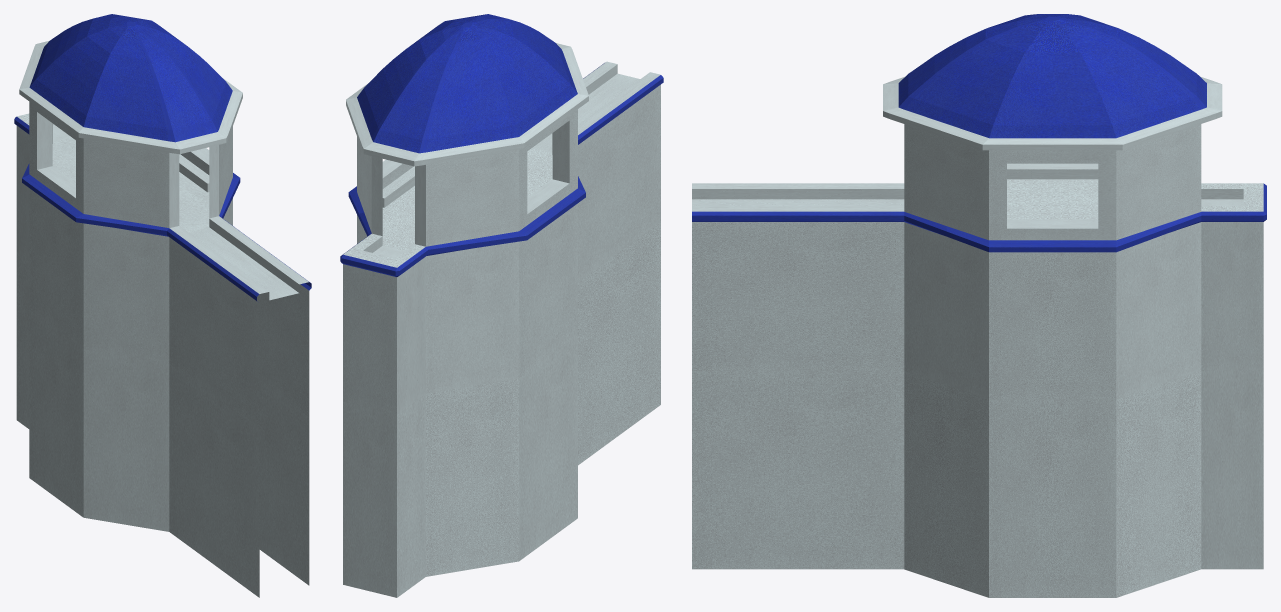
File: Cat's Cape Village Wall End.glb
3 renders of one model, left to right at view 1: azimuth 30°, elevation 25°; view 2: azimuth 150°, elevation 25°; view 3: azimuth 270°, elevation 25°, orthographic. The views are drawn at different scales.
Visible parts, largest first — view 1: Cube; view 2: Cube; view 3: Cube.
Boxes of the visible parts, x1=… form: Cube: x1=14, y1=14, x2=311, y2=597; Cube: x1=340, y1=14, x2=663, y2=597; Cube: x1=692, y1=14, x2=1266, y2=597.
Bounding box in the file's own units: 19.8 × 52.5 × 51.01.
2 materials, 2 textured.
